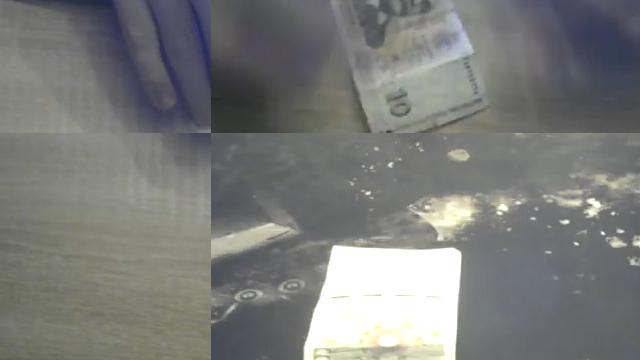10leva: (324, 0, 489, 133)
